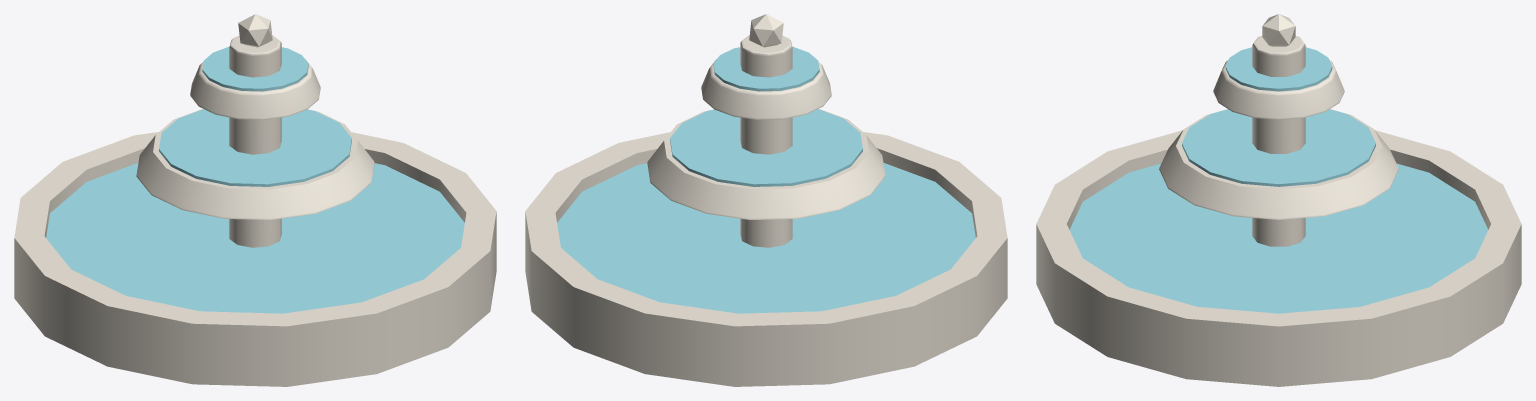
The model's file is Fountain.fbx.
3 views of the same model, side by side, from view 1: azimuth 30°, elevation 25°; view 2: azimuth 150°, elevation 25°; view 3: azimuth 270°, elevation 25° (orthographic).
Parts seen in each view (by area): view 1: Fountain; view 2: Fountain; view 3: Fountain.
Part boxes in pixels (x1,y1,x2,y2): Fountain: [14, 14, 496, 386]; Fountain: [525, 14, 1007, 386]; Fountain: [1036, 14, 1521, 386].
Size of the model in its own units: 4 by 2.46 by 4.
